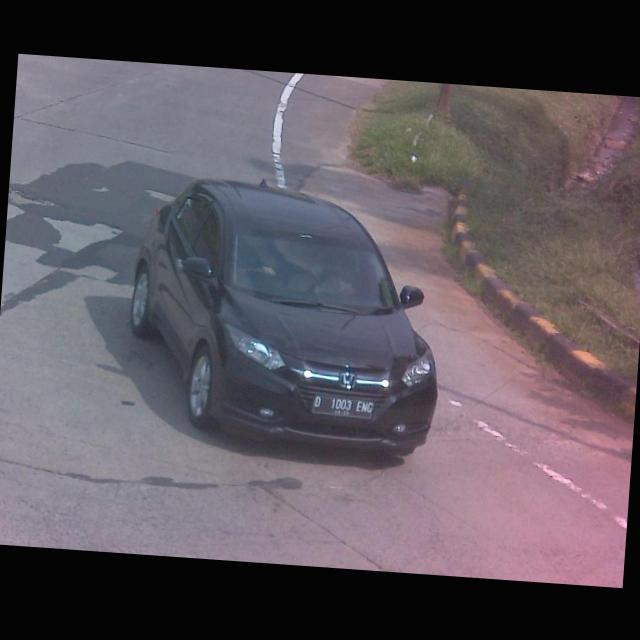plate: (310, 394, 376, 418)
